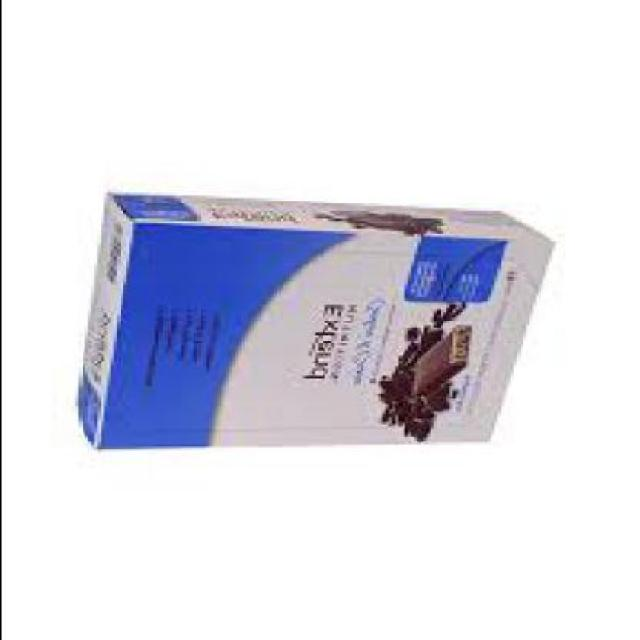CARDBOARD: (70, 191, 547, 446)
